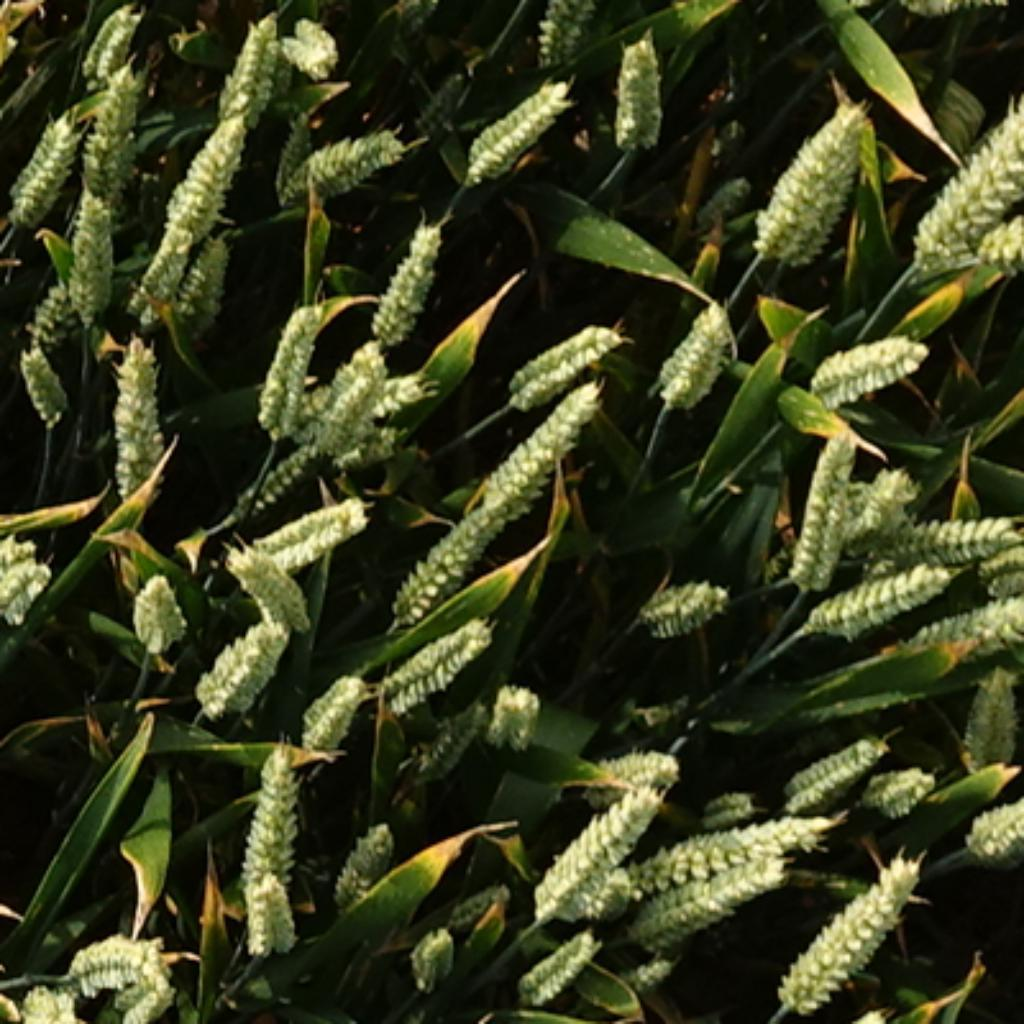0-0: (768, 855, 929, 1008), (747, 92, 867, 271), (596, 811, 847, 896), (911, 89, 1024, 276), (468, 378, 611, 519), (527, 773, 660, 908), (619, 852, 808, 942), (386, 491, 506, 629), (780, 430, 880, 581), (778, 115, 872, 271), (453, 71, 573, 186), (158, 99, 253, 240), (373, 609, 494, 716), (99, 327, 171, 496), (806, 552, 957, 632), (235, 742, 309, 903), (363, 209, 453, 340), (294, 335, 389, 458), (192, 606, 294, 711), (499, 322, 622, 409), (81, 51, 153, 199), (801, 332, 934, 412), (56, 181, 128, 327), (652, 291, 742, 407), (245, 486, 368, 570), (256, 294, 327, 437), (281, 115, 409, 194), (148, 217, 238, 327), (2, 102, 81, 222), (217, 12, 302, 122), (778, 724, 885, 808), (826, 517, 1016, 563), (61, 919, 174, 995), (227, 535, 314, 629), (906, 586, 1024, 655), (289, 371, 445, 422), (627, 563, 734, 637), (606, 28, 670, 145), (414, 691, 499, 775), (517, 924, 601, 1006), (230, 440, 309, 527), (330, 811, 401, 903), (235, 847, 299, 949), (294, 663, 371, 747), (535, 2, 624, 69), (839, 460, 919, 532), (957, 668, 1018, 762), (122, 568, 189, 652), (404, 913, 476, 988), (578, 957, 680, 1008), (84, 2, 140, 89), (960, 785, 1024, 860), (12, 345, 69, 427), (857, 757, 931, 819), (583, 737, 678, 785), (478, 686, 542, 757), (0, 547, 56, 624), (279, 7, 340, 74), (10, 972, 81, 1024), (115, 965, 174, 1024), (570, 872, 634, 921), (977, 217, 1024, 281), (23, 276, 66, 343), (0, 529, 38, 601), (335, 427, 407, 465), (983, 545, 1024, 604), (704, 791, 757, 829), (801, 1008, 885, 1024)
